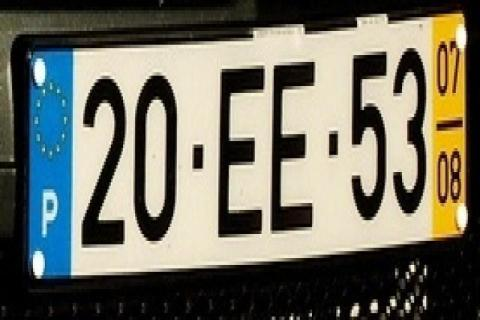LicensePlate: (19, 34, 474, 278)
